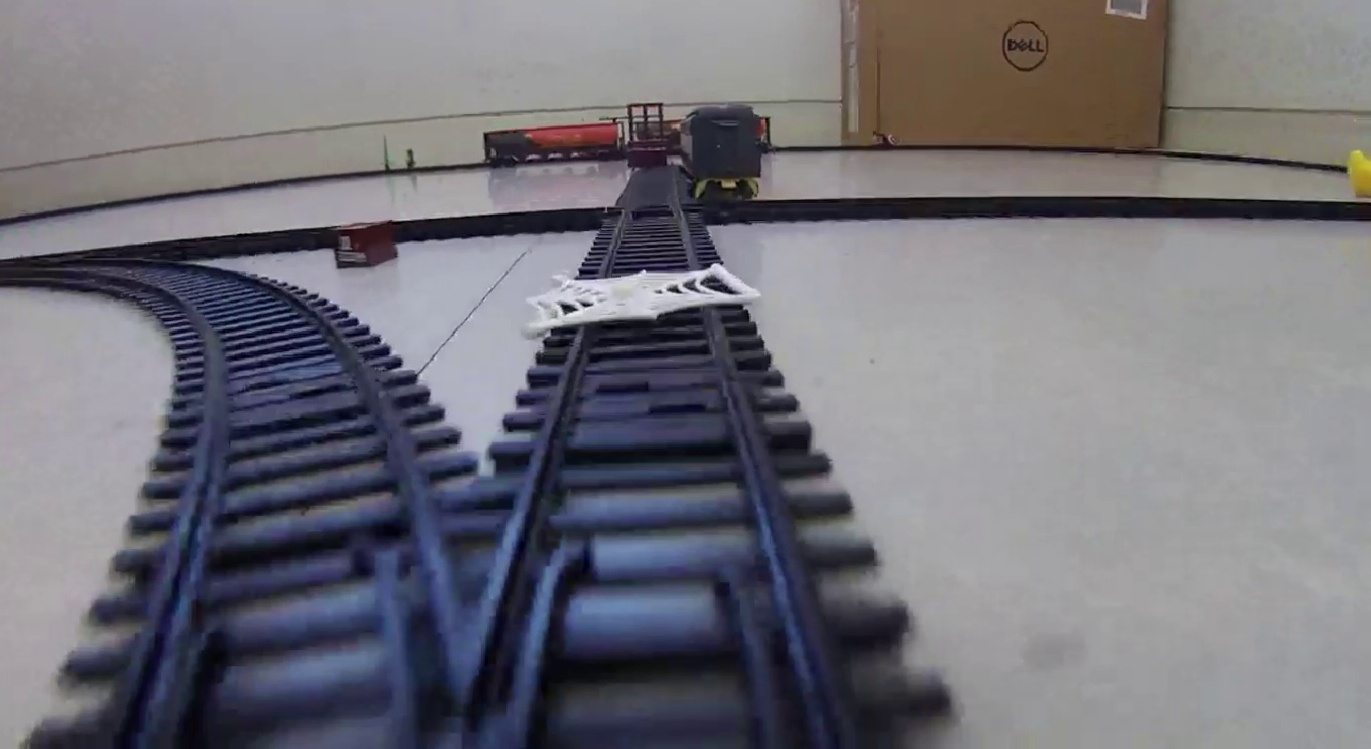box: (333, 223, 399, 268)
web: (524, 266, 762, 337)
